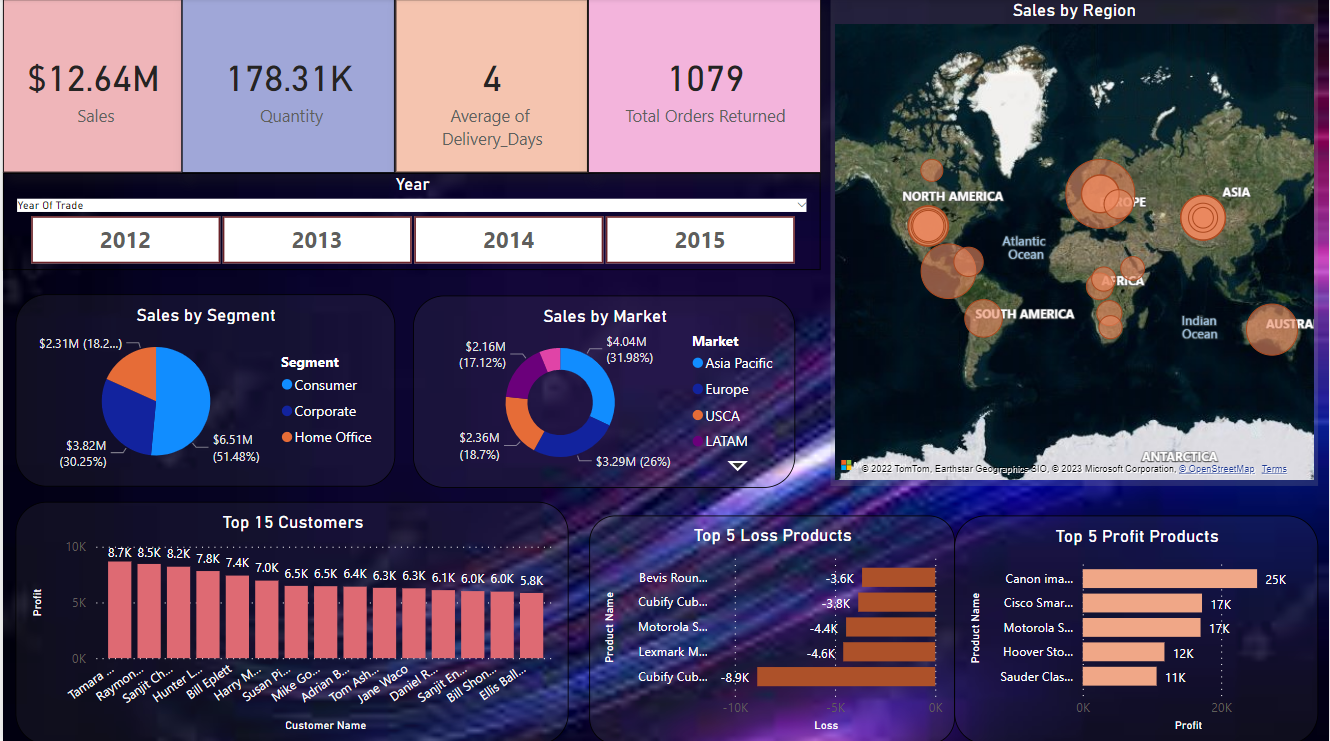

What the dashboard file says about the page in this screenshot:
{"tool":"powerbi","page":{"name":"Dashboard_1","canvas":[1280,720],"ordinal":0},"visuals":[{"type":"card","fields":{"Values":["Orders.Sales"]},"box":[0,1.4,172.9,167.4],"z":0},{"type":"card","fields":{"Values":["Orders.Quantity"]},"box":[172.9,0,205.8,168.8],"z":1000},{"type":"card","fields":{"Values":["Orders.Delivery_Days"]},"box":[378.7,1.4,185.2,167.4],"z":2000},{"type":"slicer","title":"Year","fields":{"Values":["Orders.Year Of Trade"]},"box":[0,168.8,789,93.3],"z":3000},{"type":"card","fields":{"Values":["Returns.Orders Returned"]},"box":[564,0,225,168.8],"z":4000},{"type":"map","fields":{"Category":["Orders.Region"],"Size":["Orders.Sales"]},"box":[798.6,1.4,470.7,469.3],"z":5000},{"type":"clusteredBarChart","title":"Top 5 Profit Products","fields":{"Y":["Orders.Profit"],"Category":["Orders.Product Name"]},"box":[918,499.5,351.3,220.9],"z":6000},{"type":"clusteredBarChart","title":"Top 5 Loss Products","fields":{"Y":["Orders.Profit"],"Category":["Orders.Product Name"]},"box":[565.4,499.5,352.7,220.9],"z":7000},{"type":"pieChart","title":" Sales by Segment","fields":{"Category":["Orders.Segment"],"Y":["Orders.Sales"]},"box":[12.3,285.4,366.4,185.2],"z":8000},{"type":"donutChart","title":" Sales by Market","fields":{"Y":["Orders.Sales"],"Category":["Orders.Market"]},"box":[395.2,286.8,369.1,185.2],"z":9000},{"type":"columnChart","title":"Top 15 Customers","fields":{"Category":["Orders.Customer Name"],"Y":["Orders.Profit"]},"box":[12.3,485.8,533.8,234.6],"z":10000}]}

Visuals, with their boxes in screenshot pixels (x1, y1, x2, y2), scaled from the page's 1280x720 canvas onto the 1330x741 screenshot:
card - Orders.Sales: crop(0, 1, 180, 174)
card - Orders.Quantity: crop(180, 0, 393, 174)
card - Orders.Delivery_Days: crop(393, 1, 586, 174)
"Year" slicer: crop(0, 174, 820, 270)
card - Returns.Orders Returned: crop(586, 0, 820, 174)
map - Orders.Region x Orders.Sales: crop(830, 1, 1319, 484)
"Top 5 Profit Products" clusteredBarChart: crop(954, 514, 1319, 740)
"Top 5 Loss Products" clusteredBarChart: crop(587, 514, 954, 740)
" Sales by Segment" pieChart: crop(13, 294, 393, 484)
" Sales by Market" donutChart: crop(411, 295, 794, 486)
"Top 15 Customers" columnChart: crop(13, 500, 567, 740)
